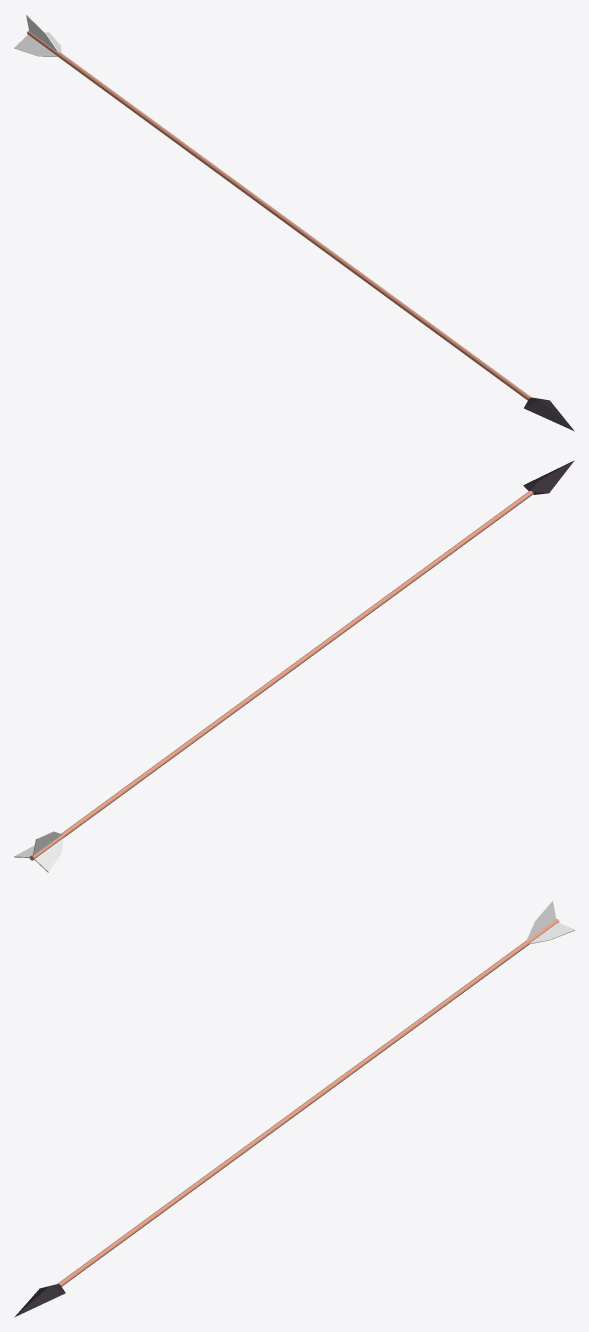
File: Mr Arrow.fbx
3 renders of one model, top to bottom at view 1: azimuth 30°, elevation 25°; view 2: azimuth 150°, elevation 25°; view 3: azimuth 330°, elevation 25°, orthographic.
Visible parts, largest first — view 1: Arrow; view 2: Arrow; view 3: Arrow.
Boxes of the visible parts, x1=… form: Arrow: x1=14, y1=14, x2=574, y2=431; Arrow: x1=14, y1=460, x2=574, y2=872; Arrow: x1=14, y1=901, x2=574, y2=1317.
Bounding box in the file's own units: 7 × 5.97 × 190.
